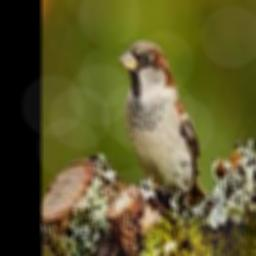Sparrow: (118, 40, 208, 207)
